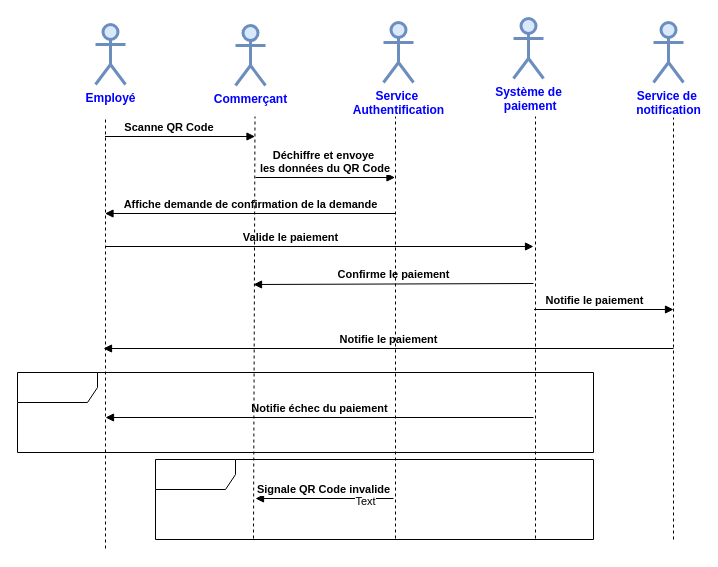
Image size: 718x567. Some labels were removed from this diagram. The shapes that lost their labels are listed below. From the top down, each one's box as (x1, y1, x2, y2) in pixels, then its label:
(16, 372, 594, 452): alt [solde insuffisant]
(154, 458, 594, 540): alt [QR Code invalide]
